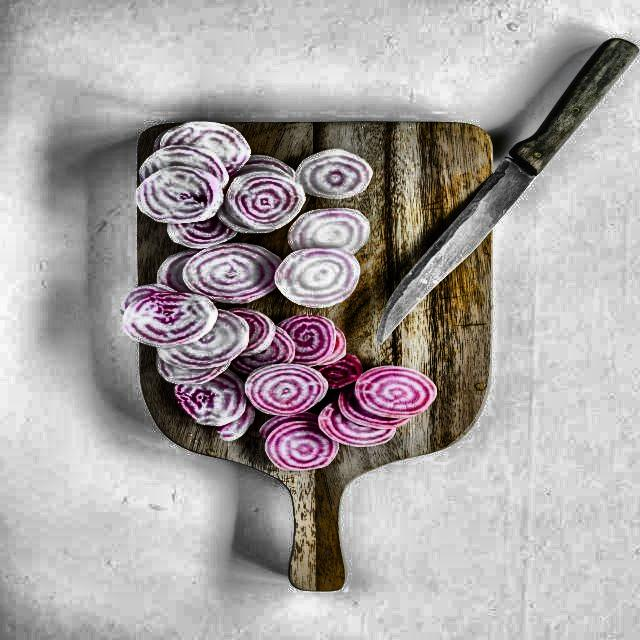knife: (369, 34, 639, 352)
